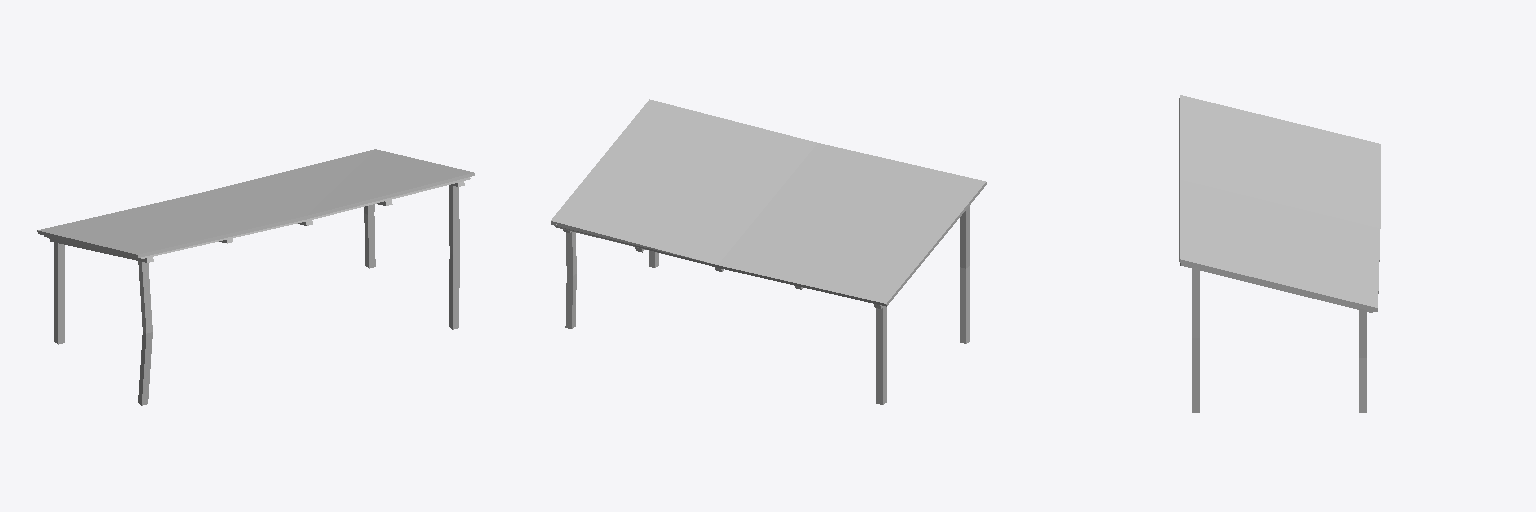
The model's file is butcher.obj.
3 renders of one model, left to right at view 1: azimuth 30°, elevation 25°; view 2: azimuth 150°, elevation 25°; view 3: azimuth 270°, elevation 25°, orthographic.
Parts seen in each view (by area): view 1: barn_Cube.002; view 2: barn_Cube.002; view 3: barn_Cube.002.
Part boxes in pixels (bbox=[...]): barn_Cube.002: bbox=[37, 149, 474, 405]; barn_Cube.002: bbox=[551, 99, 986, 404]; barn_Cube.002: bbox=[1179, 95, 1380, 412].
Size of the model in its own units: 4.66 by 2.09 by 2.41.